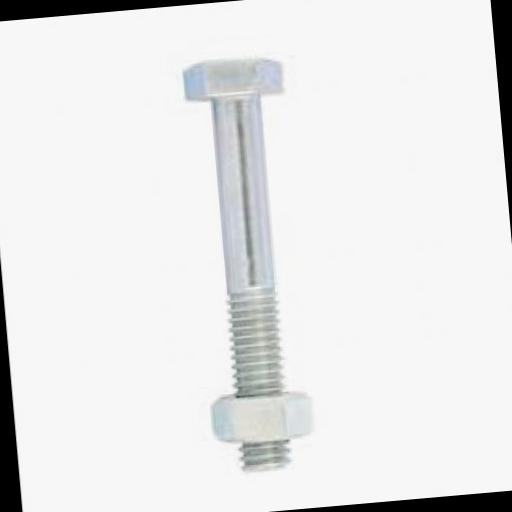metal: (183, 50, 321, 472), (212, 387, 317, 444)
